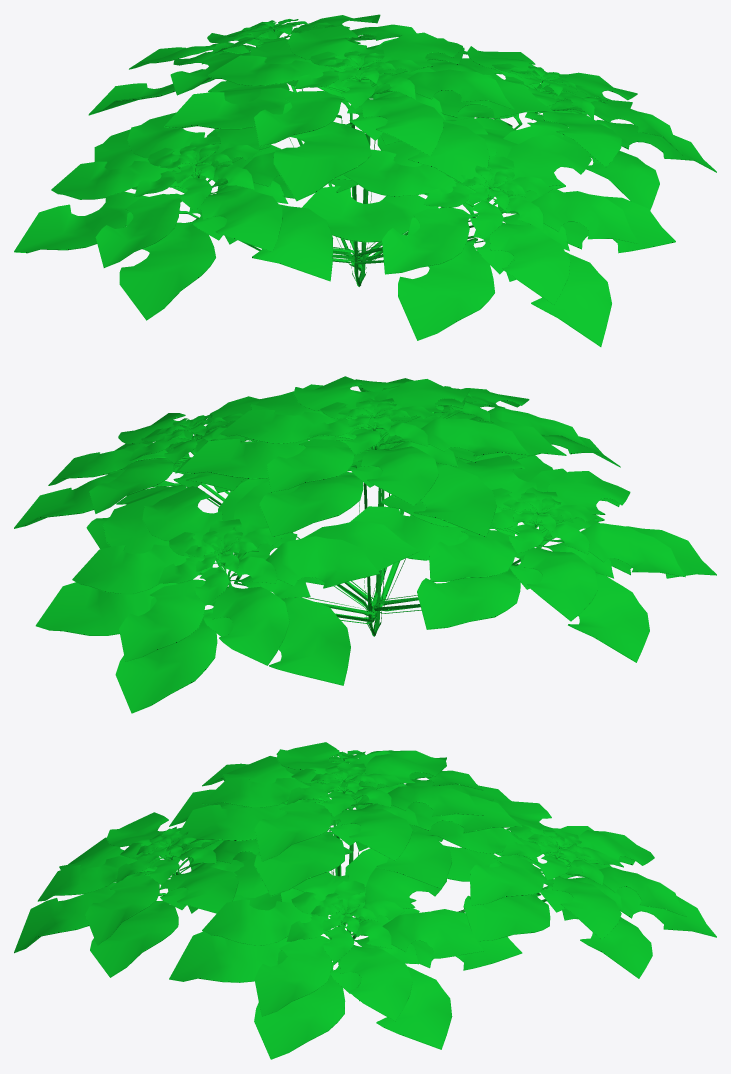
File: asset_touffe_arbre.fbx
The picture shows the model from 3 angles, top to bottom: view 1: azimuth 30°, elevation 25°; view 2: azimuth 150°, elevation 25°; view 3: azimuth 270°, elevation 25°; orthographic projection. The views are drawn at different scales.
Visible parts, largest first — view 1: feuille_32, feuille_34, feuille_30, feuille_21, feuille_20, feuille_28, feuille_16, feuille_11, feuille_27, feuille_37, feuille_29, feuille_25 (+11 smaller); view 2: feuille_27, feuille_25, feuille_20, feuille_28, feuille_21, feuille_30, feuille_16, feuille_11, feuille_23, feuille_37, feuille_19, feuille_32 (+11 smaller); view 3: feuille_16, feuille_11, feuille_20, feuille_21, feuille_27, feuille_32, feuille_25, feuille_34, feuille_17, feuille_19, feuille_23, feuille_29 (+10 smaller).
Boxes of the visible parts, x1=… form: feuille_32: x1=343, y1=116, x2=638, y2=305; feuille_34: x1=302, y1=125, x2=675, y2=346; feuille_30: x1=14, y1=129, x2=360, y2=320; feuille_21: x1=164, y1=38, x2=553, y2=286; feuille_20: x1=208, y1=25, x2=514, y2=156; feuille_28: x1=51, y1=112, x2=351, y2=267; feuille_16: x1=427, y1=46, x2=683, y2=167; feuille_11: x1=358, y1=58, x2=716, y2=261; feuille_27: x1=129, y1=14, x2=416, y2=95; feuille_37: x1=134, y1=136, x2=261, y2=211; feuille_29: x1=423, y1=155, x2=552, y2=239; feuille_25: x1=88, y1=34, x2=467, y2=270; feuille_27: x1=72, y1=481, x2=380, y2=665; feuille_25: x1=35, y1=479, x2=419, y2=713; feuille_20: x1=219, y1=376, x2=529, y2=506; feuille_28: x1=381, y1=455, x2=685, y2=621; feuille_21: x1=178, y1=387, x2=566, y2=636; feuille_30: x1=350, y1=457, x2=716, y2=662; feuille_16: x1=48, y1=395, x2=279, y2=513; feuille_11: x1=14, y1=425, x2=374, y2=610; feuille_23: x1=158, y1=519, x2=284, y2=605; feuille_37: x1=490, y1=487, x2=597, y2=554; feuille_19: x1=308, y1=397, x2=436, y2=454; feuille_32: x1=303, y1=378, x2=588, y2=459; feuille_16: x1=202, y1=867, x2=483, y2=1021; feuille_11: x1=169, y1=848, x2=522, y2=1059; feuille_20: x1=202, y1=742, x2=483, y2=861; feuille_21: x1=170, y1=751, x2=522, y2=964; feuille_27: x1=416, y1=798, x2=686, y2=940; feuille_32: x1=37, y1=804, x2=259, y2=945; feuille_25: x1=443, y1=826, x2=716, y2=978; feuille_34: x1=14, y1=837, x2=353, y2=977; feuille_17: x1=286, y1=880, x2=404, y2=962; feuille_19: x1=286, y1=762, x2=404, y2=816; feuille_23: x1=501, y1=825, x2=615, y2=885; feuille_29: x1=116, y1=827, x2=218, y2=885.
Size of the model in its own units: 9.53 by 3.29 by 10.29.
